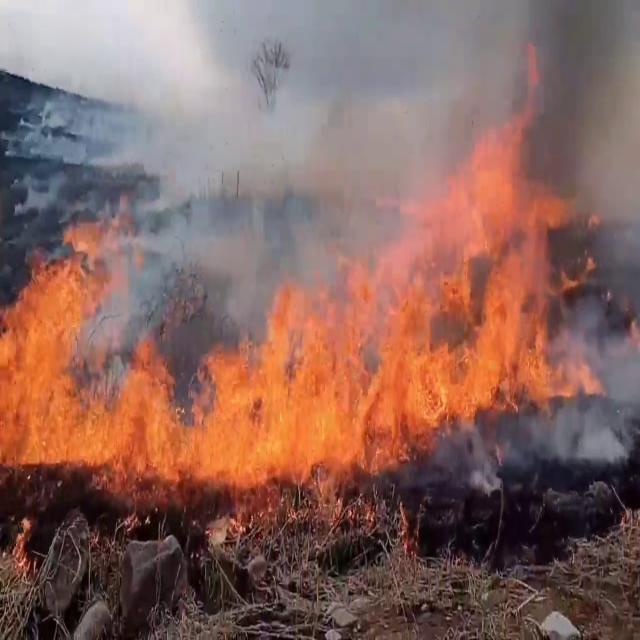Fire: (0, 224, 350, 522), (359, 36, 572, 485)
Smoke: (127, 0, 640, 309)
